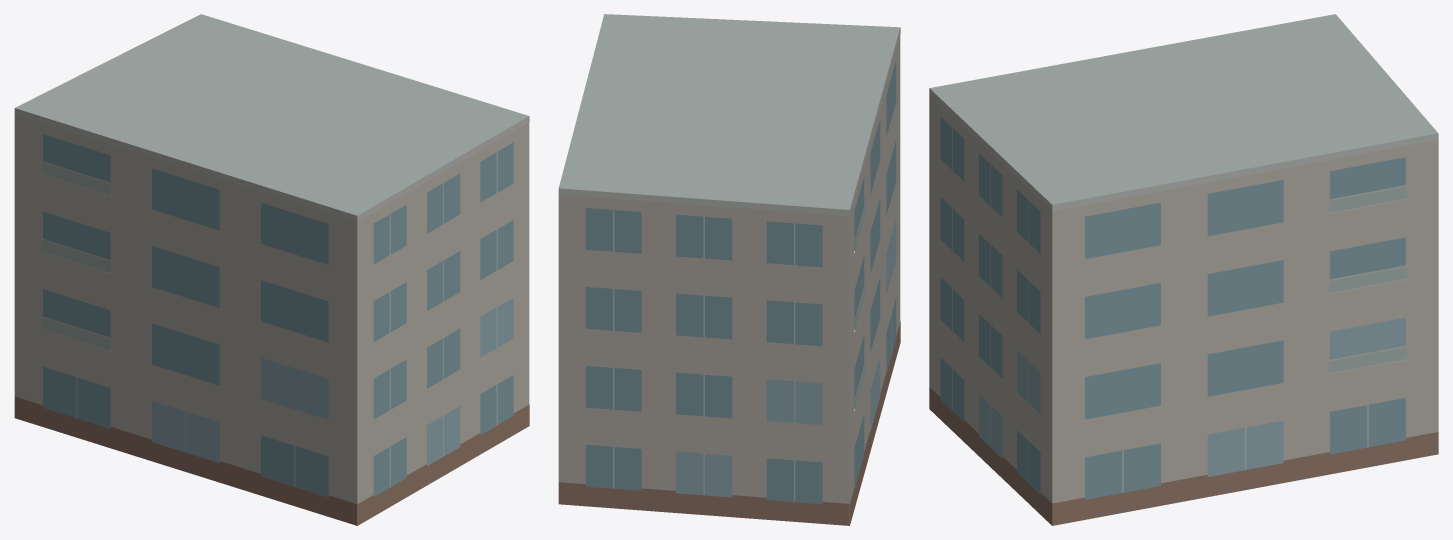
File: survey-upis-32796016.glb
3 renders of one model, left to right at view 1: azimuth 30°, elevation 25°; view 2: azimuth 150°, elevation 25°; view 3: azimuth 270°, elevation 25°, orthographic. The views are drawn at different scales.
Parts seen in each view (by area): view 1: survey-upis-32796016.tmp; view 2: survey-upis-32796016.tmp; view 3: survey-upis-32796016.tmp.
Part boxes in pixels (bbox=[...]): survey-upis-32796016.tmp: bbox=[14, 14, 529, 525]; survey-upis-32796016.tmp: bbox=[558, 14, 900, 525]; survey-upis-32796016.tmp: bbox=[929, 14, 1438, 525].
Bounding box in the file's own units: 15.57 × 12.2 × 17.55.
